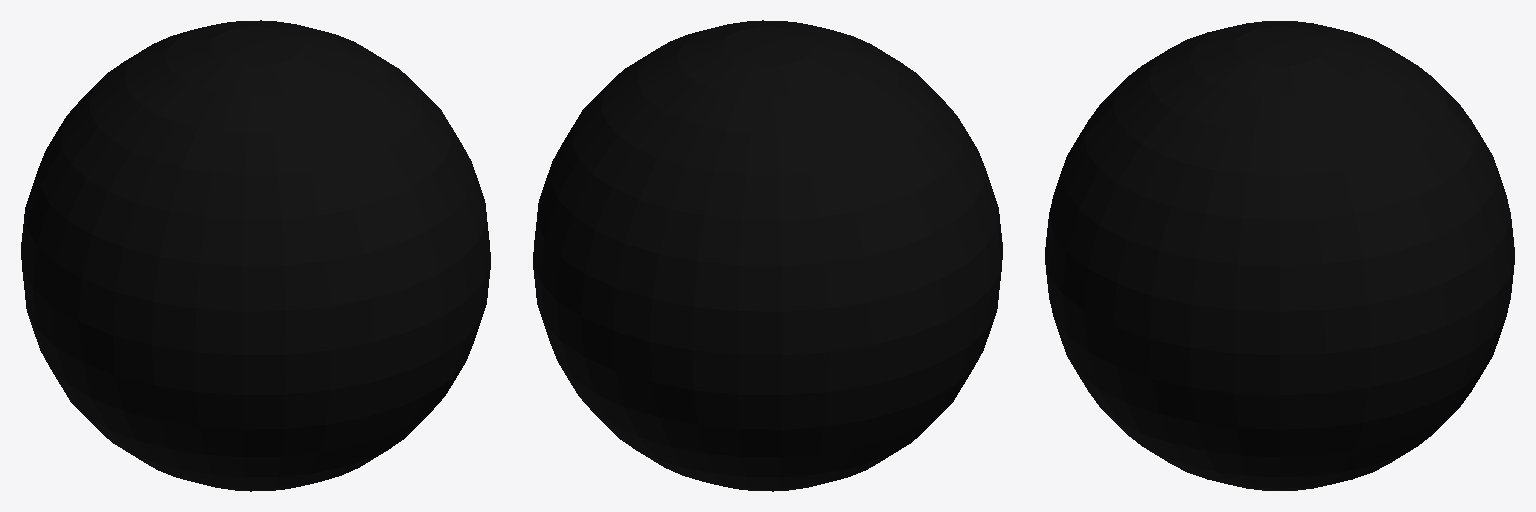
robot.urdf — sphere.urdf:
<?xml version="1.0" ?>
<robot name="sphere.urdf">

  <link name="base">
    <visual>
      <geometry>
        <sphere radius="0.005" />
      </geometry>
      <material name="black_metal">
        <color rgba="0.1 0.1 0.1 1"/>
      </material>
    </visual>

    <collision>
      <geometry>
        <sphere radius="0.0" />
      </geometry>
    </collision>
  </link>

</robot>

--- Render facts (derived) ---
3 views of the same robot in one strip: view 1: azimuth 30°, elevation 25°; view 2: azimuth 150°, elevation 25°; view 3: azimuth 270°, elevation 25° (orthographic).
Robot: sphere.urdf — 1 links, 0 joints (none); root link base; default pose: every joint at zero.
Links seen in each view (by area): view 1: base; view 2: base; view 3: base.
Boxes of the visible links, box(x1,y1,x2,y2) form: base: box(21, 20, 490, 491); base: box(533, 20, 1002, 491); base: box(1045, 21, 1514, 490).
Bounding box of the posed robot: 0.01 × 0.01 × 0.01 m (x, y, z).
Geometry: primitives only (box / cylinder / sphere), no mesh files.